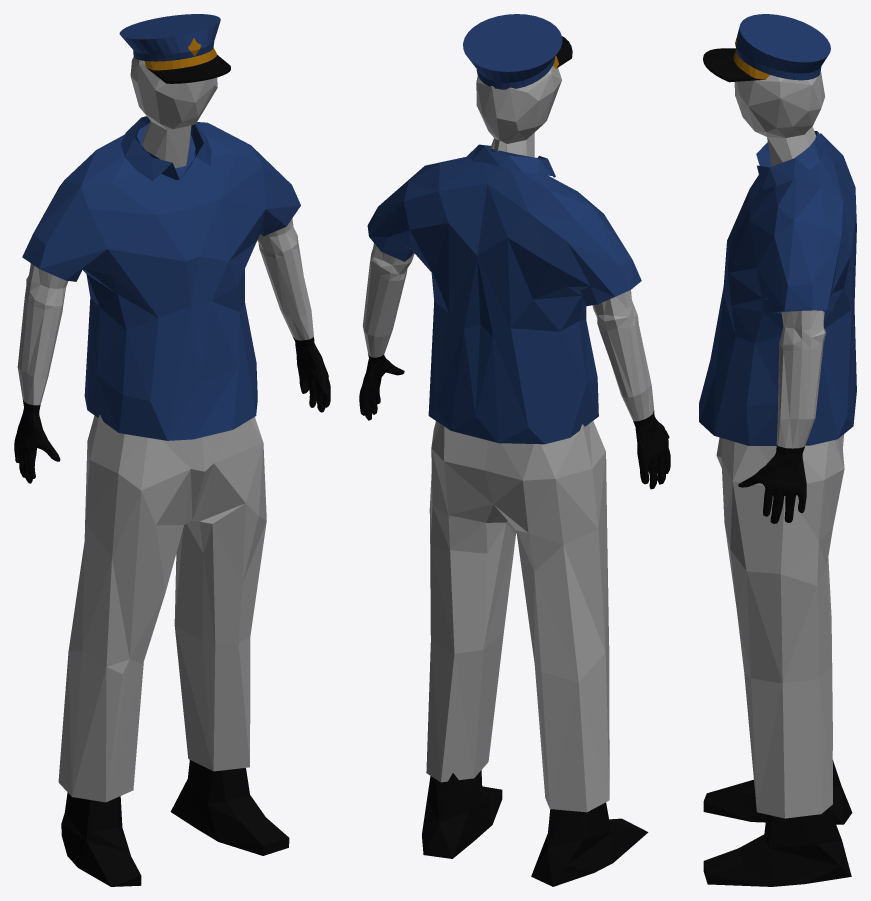
Rendered from security_guard.obj.
3 renders of one model, left to right at view 1: azimuth 30°, elevation 25°; view 2: azimuth 150°, elevation 25°; view 3: azimuth 270°, elevation 25°, orthographic.
Bounding box in the file's own units: 2.5 × 6.52 × 1.14.
